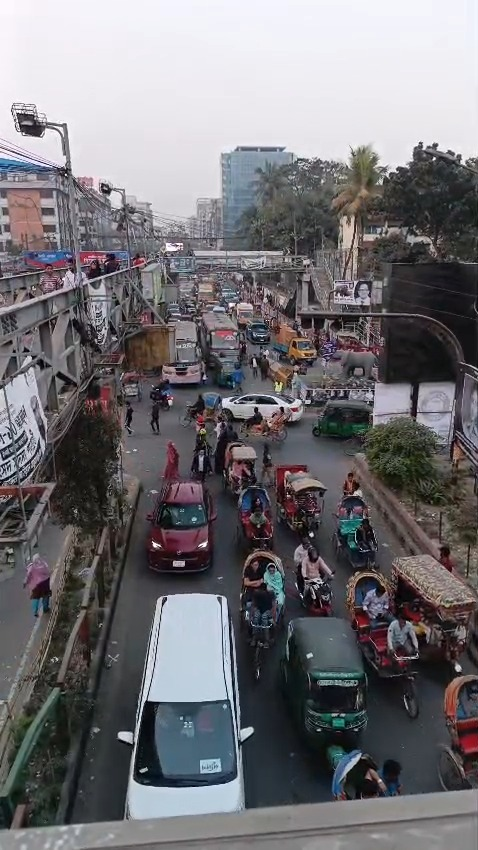Bikes: (293, 535, 345, 615)
auto-ricksaw: (272, 457, 330, 533)
cng: (278, 603, 379, 749), (311, 399, 376, 443)
private car: (114, 573, 251, 829), (143, 478, 218, 582), (219, 387, 307, 424)
